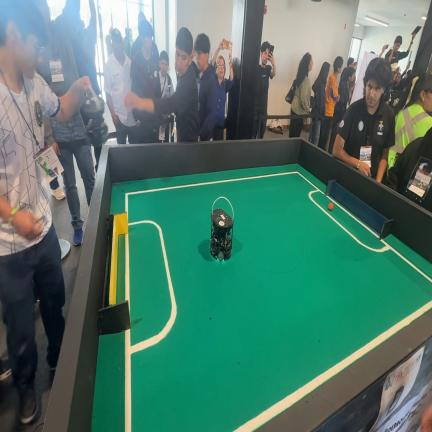cancha: (91, 164, 432, 432)
limites: (125, 172, 431, 283)
pelota: (329, 203, 333, 210)
porteria: (98, 213, 130, 335)
robot: (210, 197, 233, 261)
